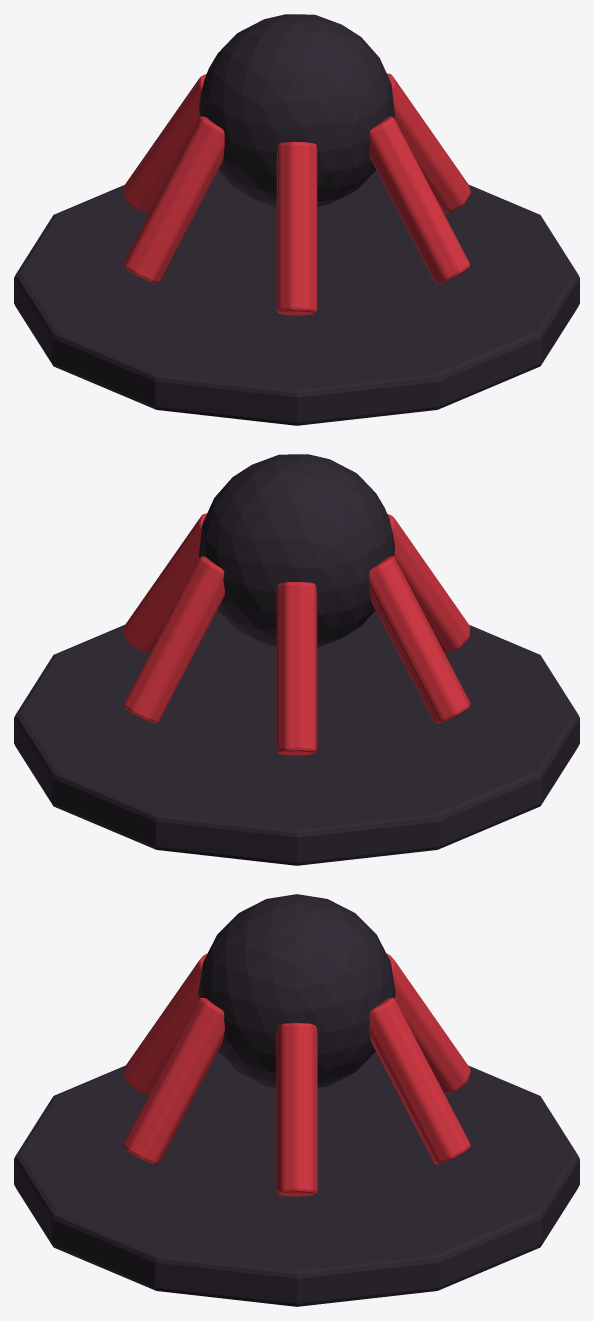
File: alien_antimatter.glb
3 views of the same model, one above another, from view 1: azimuth 30°, elevation 25°; view 2: azimuth 150°, elevation 25°; view 3: azimuth 270°, elevation 25° (orthographic).
Visible parts, largest first — view 1: Foundation, VoidCore, CollectorArm.004, CollectorArm.003, CollectorArm.005, CollectorArm, CollectorArm.002; view 2: Foundation, VoidCore, CollectorArm.002, CollectorArm.003, CollectorArm.001, CollectorArm, CollectorArm.004; view 3: Foundation, VoidCore, CollectorArm, CollectorArm.001, CollectorArm.005, CollectorArm.002, CollectorArm.004.
Part boxes in pixels (box(x1,y1,x2,y2)): Foundation: box(14, 170, 579, 425); VoidCore: box(199, 14, 394, 207); CollectorArm.004: box(276, 142, 317, 315); CollectorArm.003: box(123, 116, 224, 283); CollectorArm.005: box(369, 116, 470, 283); CollectorArm: box(387, 73, 470, 212); CollectorArm.002: box(123, 74, 206, 212); Foundation: box(14, 610, 579, 865); VoidCore: box(199, 454, 394, 647); CollectorArm.002: box(276, 582, 317, 755); CollectorArm.003: box(369, 556, 470, 723); CollectorArm.001: box(123, 556, 224, 723); CollectorArm: box(123, 513, 206, 652); CollectorArm.004: box(387, 514, 470, 652); Foundation: box(14, 1052, 579, 1306); VoidCore: box(198, 894, 395, 1087); CollectorArm: box(276, 1023, 317, 1196); CollectorArm.001: box(369, 998, 470, 1164); CollectorArm.005: box(123, 998, 224, 1164); CollectorArm.002: box(387, 953, 470, 1093); CollectorArm.004: box(123, 953, 206, 1093).
Bounding box in the file's own units: 1.72 × 0.96 × 1.72.
